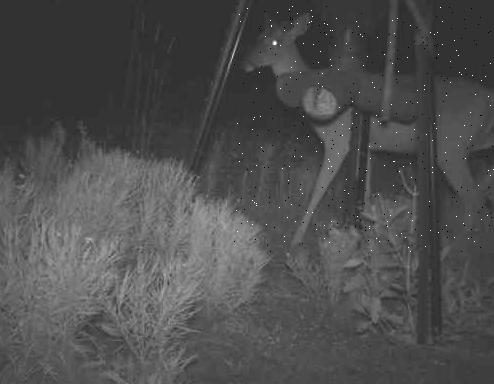Deer: (234, 5, 494, 253)
